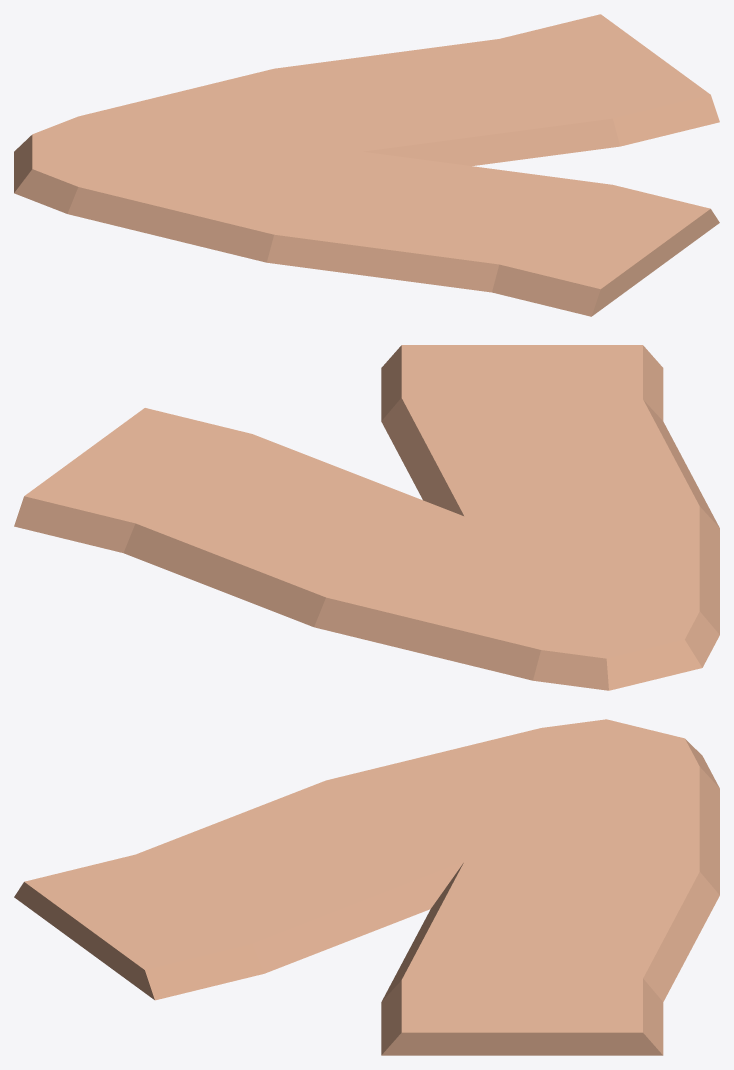
The model's file is path_cornerSharp.glb.
The picture shows the model from 3 angles, top to bottom: view 1: azimuth 30°, elevation 25°; view 2: azimuth 150°, elevation 25°; view 3: azimuth 270°, elevation 25°; orthographic projection. The views are drawn at different scales.
Parts seen in each view (by area): view 1: path_cornerSharp; view 2: path_cornerSharp; view 3: path_cornerSharp.
Boxes of the visible parts, <box> form: path_cornerSharp: <box>14,14,719,316</box>; path_cornerSharp: <box>14,345,719,690</box>; path_cornerSharp: <box>14,719,719,1055</box>.
Bounding box in the file's own units: 0.7554 × 0.025 × 0.6983.
